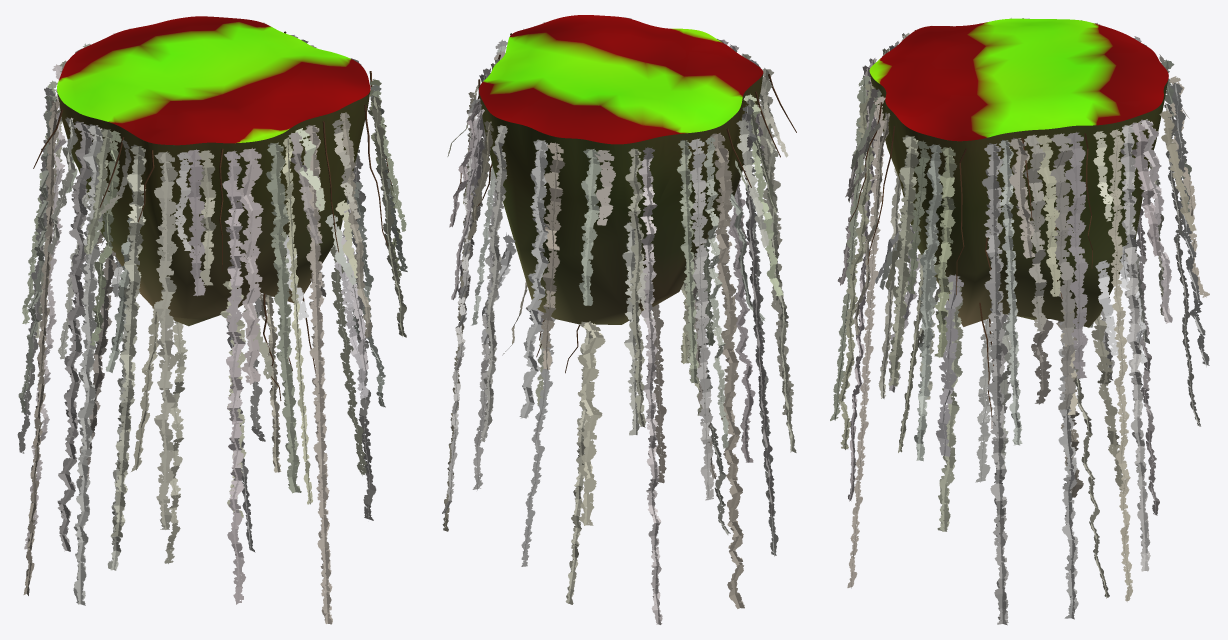
File: SM_H02_Floater03.fbx
The picture shows the model from 3 angles, left to right: view 1: azimuth 30°, elevation 25°; view 2: azimuth 150°, elevation 25°; view 3: azimuth 270°, elevation 25°; orthographic projection. The views are drawn at different scales.
Visible parts, largest first — view 1: SM_H02_Floater03_Ivy, SM_H02_Floater03; view 2: SM_H02_Floater03_Ivy, SM_H02_Floater03; view 3: SM_H02_Floater03_Ivy, SM_H02_Floater03.
Boxes of the visible parts, left/top/right/bottom form: SM_H02_Floater03_Ivy: left=17, top=22, right=407, bottom=624; SM_H02_Floater03: left=57, top=16, right=370, bottom=326; SM_H02_Floater03_Ivy: left=442, top=17, right=796, bottom=624; SM_H02_Floater03: left=479, top=15, right=763, bottom=324; SM_H02_Floater03_Ivy: left=830, top=18, right=1209, bottom=625; SM_H02_Floater03: left=869, top=18, right=1168, bottom=327.
Size of the model in its own units: 20.58 by 32.31 by 21.39.
